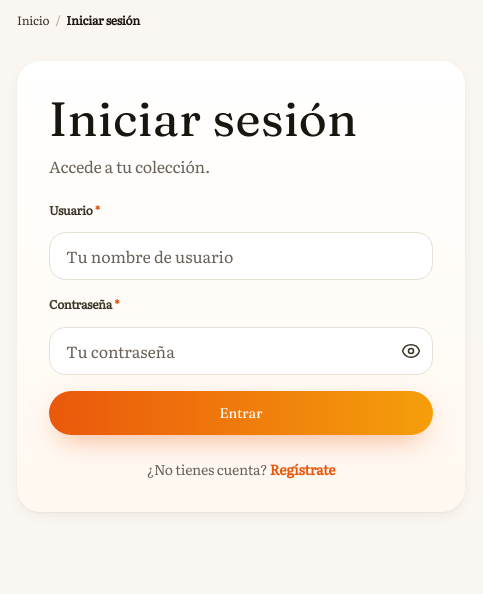
LoginPage › enfoca el primer campo inválido al enviar
Click the button "Entrar" at (241, 413), box [49,391,433,435]
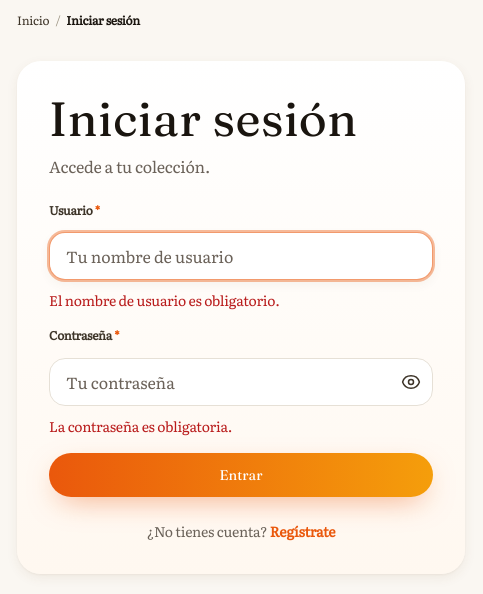
Check: the text "El nombre de usuario es obligatorio." is shown, box [49,290,280,310]
